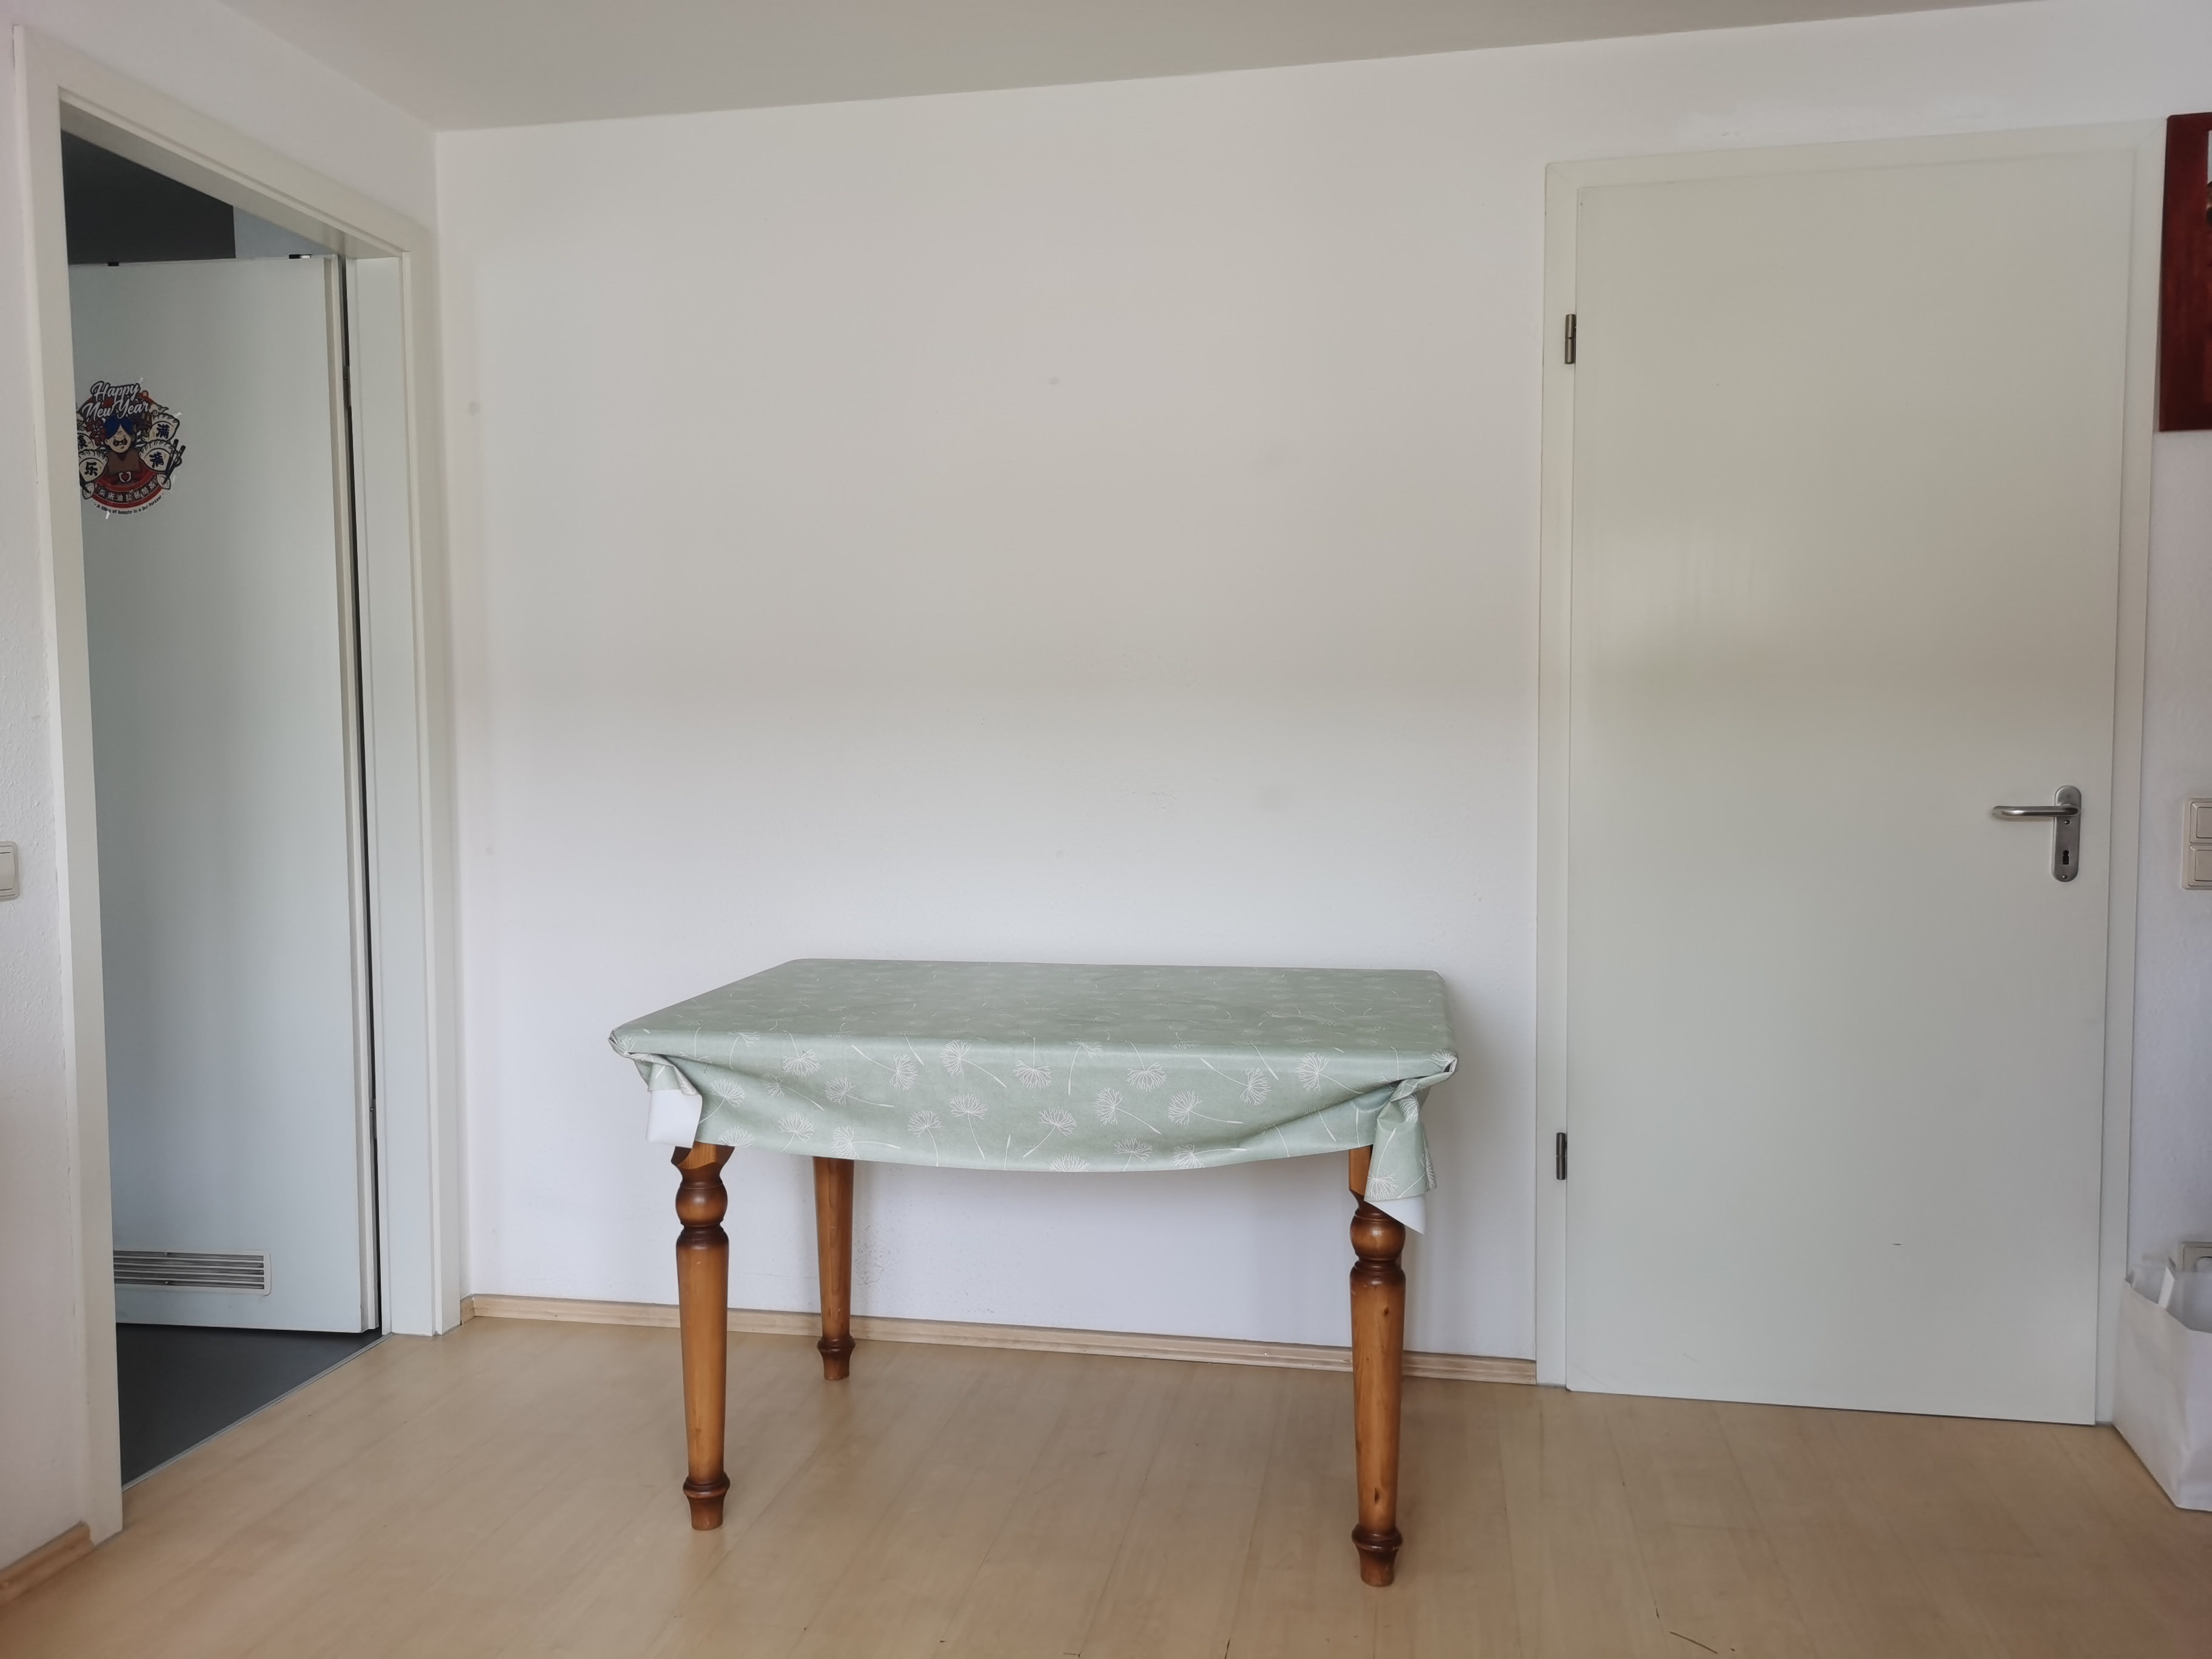door: (1541, 115, 2141, 1432), (17, 24, 456, 1539)
wall: (435, 3, 2212, 1438), (0, 0, 474, 1612)
